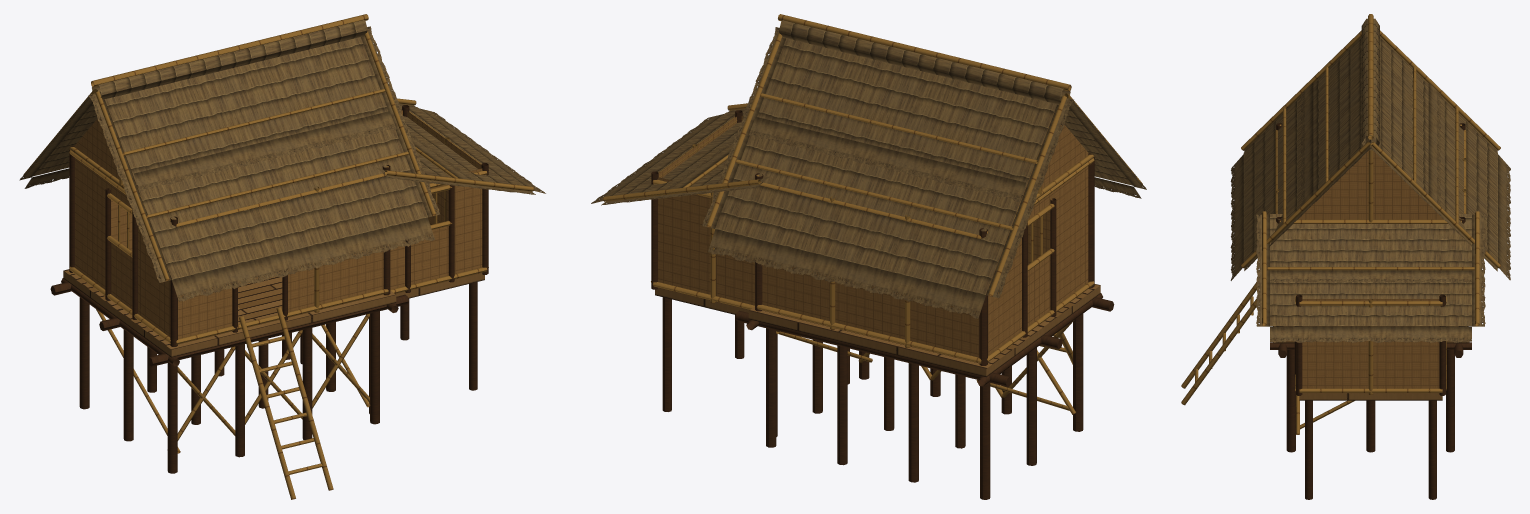
3 views of the same model, side by side, from view 1: azimuth 30°, elevation 25°; view 2: azimuth 150°, elevation 25°; view 3: azimuth 270°, elevation 25° (orthographic). The views are drawn at different scales.
Parts seen in each view (by area): view 1: hut_subanon_0; view 2: hut_subanon_0; view 3: hut_subanon_0.
Boxes of the visible parts, x1,y1,x2,y2 form: hut_subanon_0: (19,14,545,499); hut_subanon_0: (591,14,1146,499); hut_subanon_0: (1181,14,1510,499).
Bounding box in the file's own units: 6.62 × 5.61 × 5.13.
Materials: 6 (6 with a texture image).
